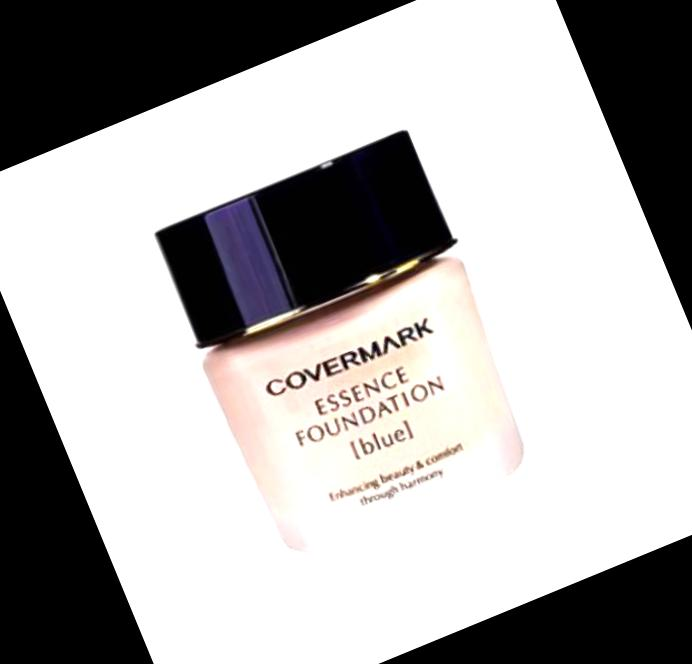cosmetic: (146, 125, 550, 571)
